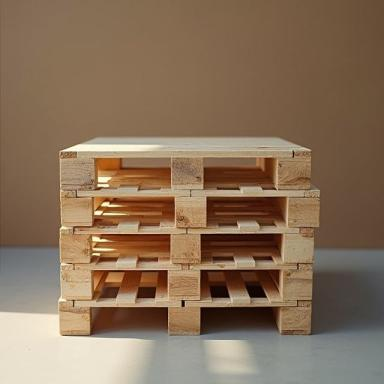pallet: (59, 136, 312, 190), (60, 184, 320, 228), (60, 262, 313, 301), (59, 226, 314, 264), (58, 299, 312, 336)
